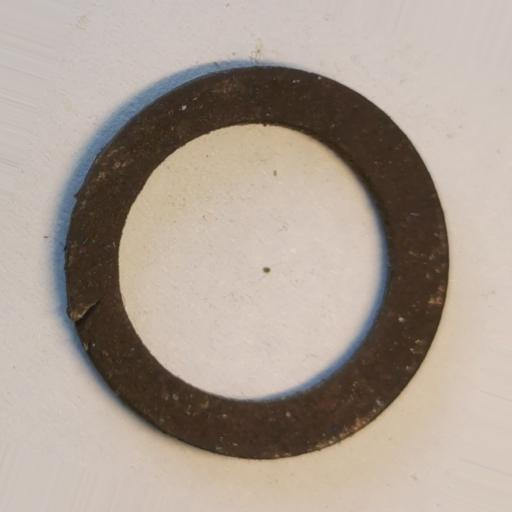defect: (71, 291, 107, 333)
